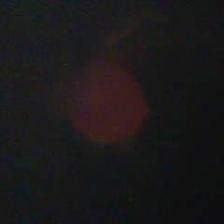fertile: (62, 56, 151, 145)
